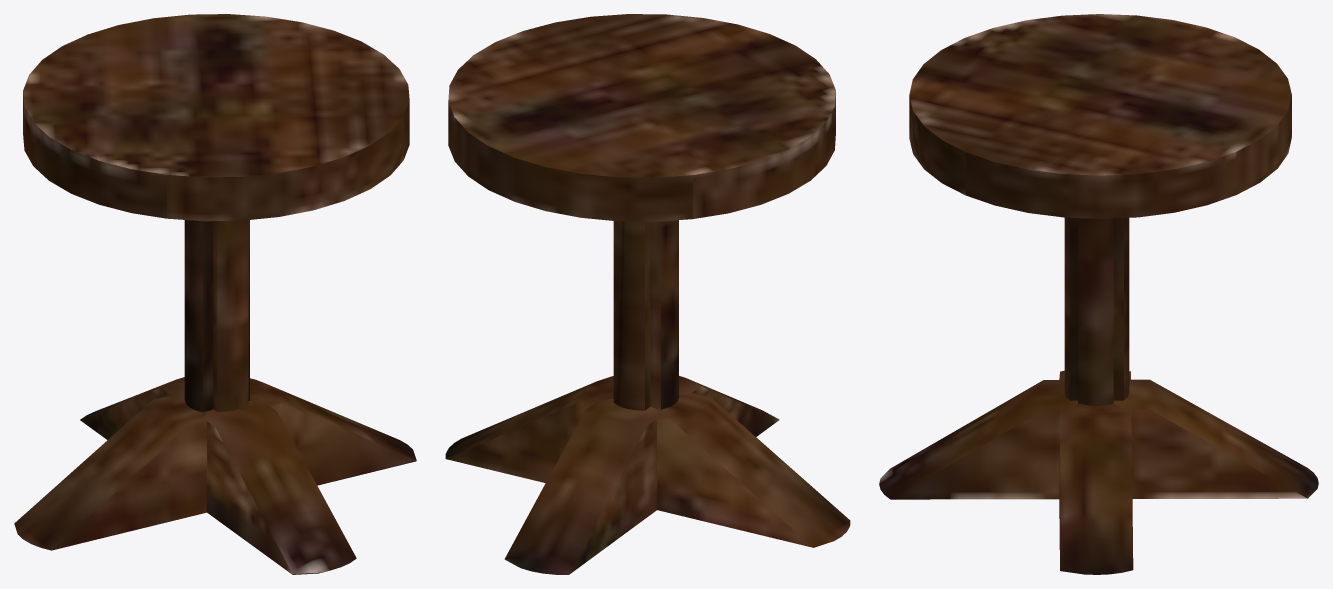
File: chair.fbx
The picture shows the model from 3 angles, left to right: view 1: azimuth 30°, elevation 25°; view 2: azimuth 150°, elevation 25°; view 3: azimuth 270°, elevation 25°; orthographic projection.
Visible parts, largest first — view 1: chair; view 2: chair; view 3: chair.
Boxes of the visible parts, left/top/right/bottom form: chair: left=14, top=14, right=416, bottom=574; chair: left=445, top=14, right=850, bottom=574; chair: left=879, top=14, right=1318, bottom=574.
Bounding box in the file's own units: 145 × 142 × 145.
